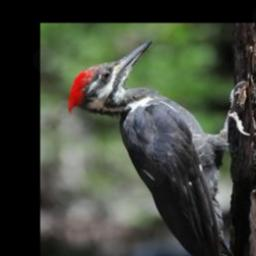Woodpecker: (66, 38, 250, 256)
